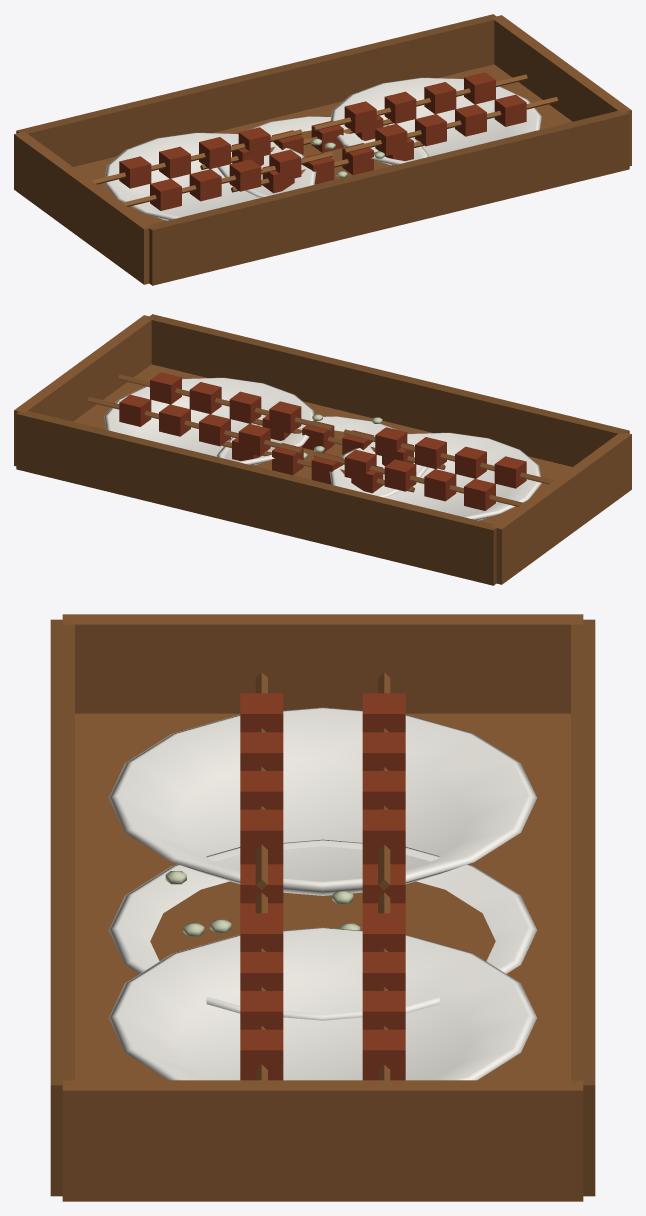
File: Meat_Skewer.fbx
The picture shows the model from 3 angles, top to bottom: view 1: azimuth 30°, elevation 25°; view 2: azimuth 150°, elevation 25°; view 3: azimuth 270°, elevation 25°; orthographic projection. The views are drawn at different scales.
Visible parts, largest first — view 1: Meat_Skewer__Stack, Meat_Skewer; view 2: Meat_Skewer__Stack, Meat_Skewer; view 3: Meat_Skewer__Stack, Meat_Skewer, Meat_Skewer__Rotten.
Boxes of the visible parts, bbox=[...] form: Meat_Skewer__Stack: bbox=[14, 14, 631, 285]; Meat_Skewer: bbox=[200, 115, 429, 197]; Meat_Skewer__Stack: bbox=[14, 314, 631, 585]; Meat_Skewer: bbox=[216, 415, 445, 497]; Meat_Skewer__Stack: bbox=[50, 614, 595, 1201]; Meat_Skewer: bbox=[108, 839, 537, 1020]; Meat_Skewer__Rotten: bbox=[165, 871, 360, 936].
Bounding box in the file's own units: 0.368 × 0.04 × 0.178.
